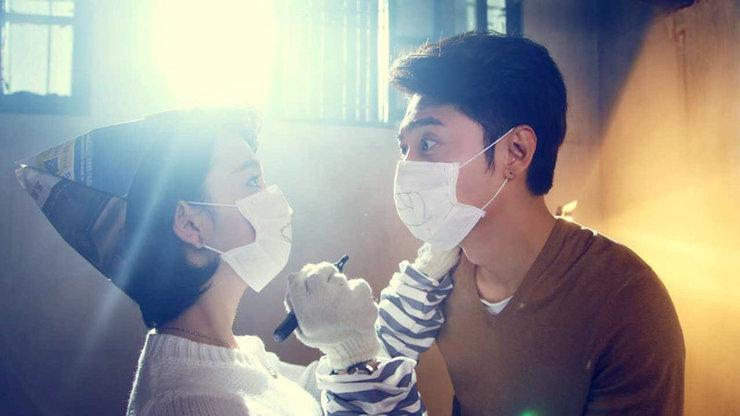OK: (390, 115, 518, 243), (180, 166, 301, 287)
